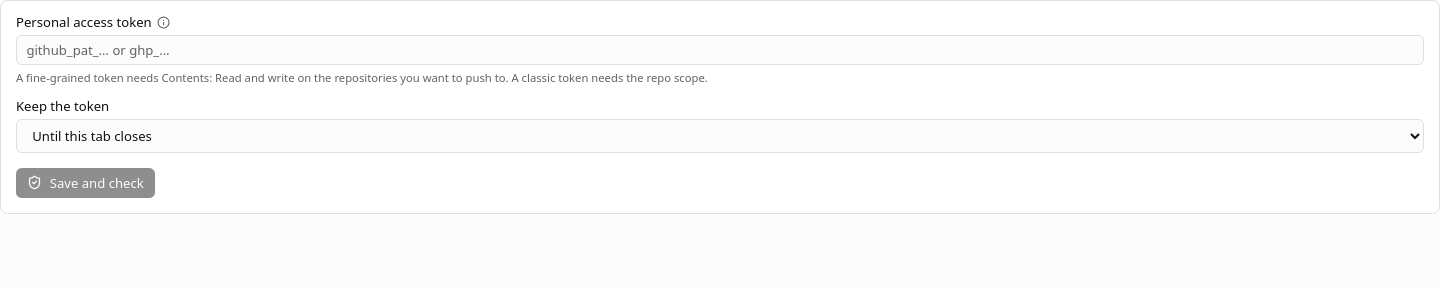
Test: the GitHub settings card › keeps the token in session storage by default, and out of the other one
In the password field labelled "Personal access token": x=720, y=50 [16,35,1424,65], type "ghp_0123456789abcdefghij0123456789abcd"
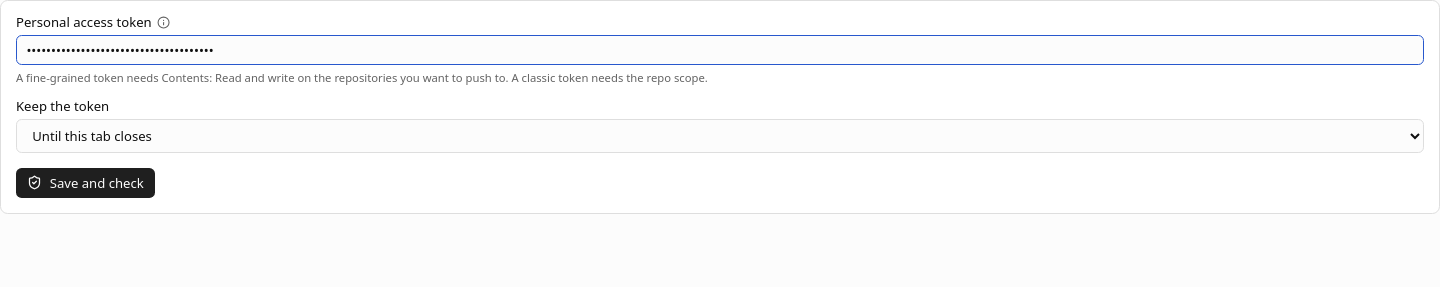
Click the button "Save and check": x=86, y=183 [16,168,155,198]
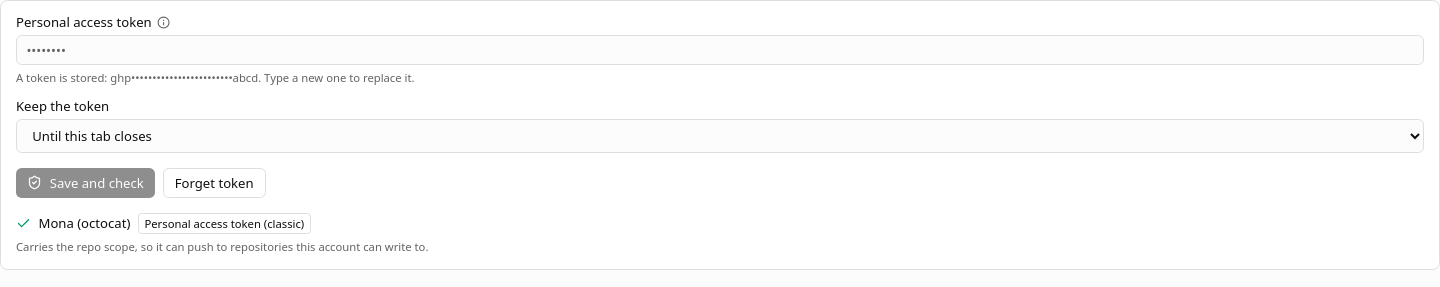
Result: the element named "Token check" is shown at [16,213,428,254]
